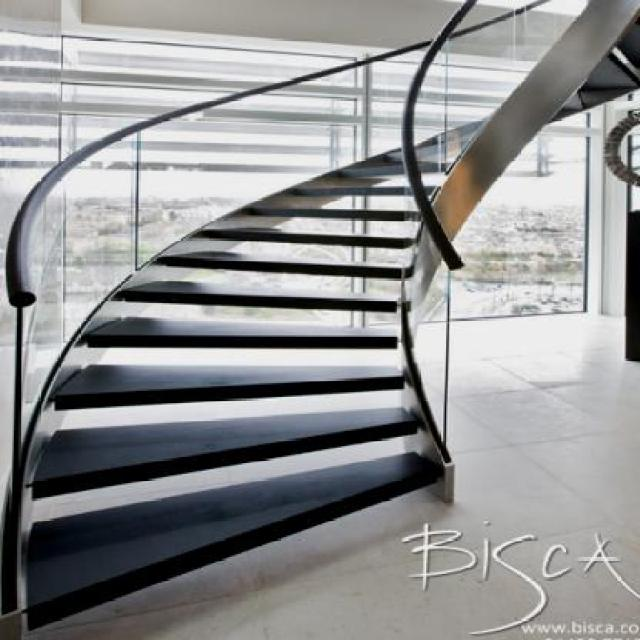stair: (0, 0, 454, 634)
